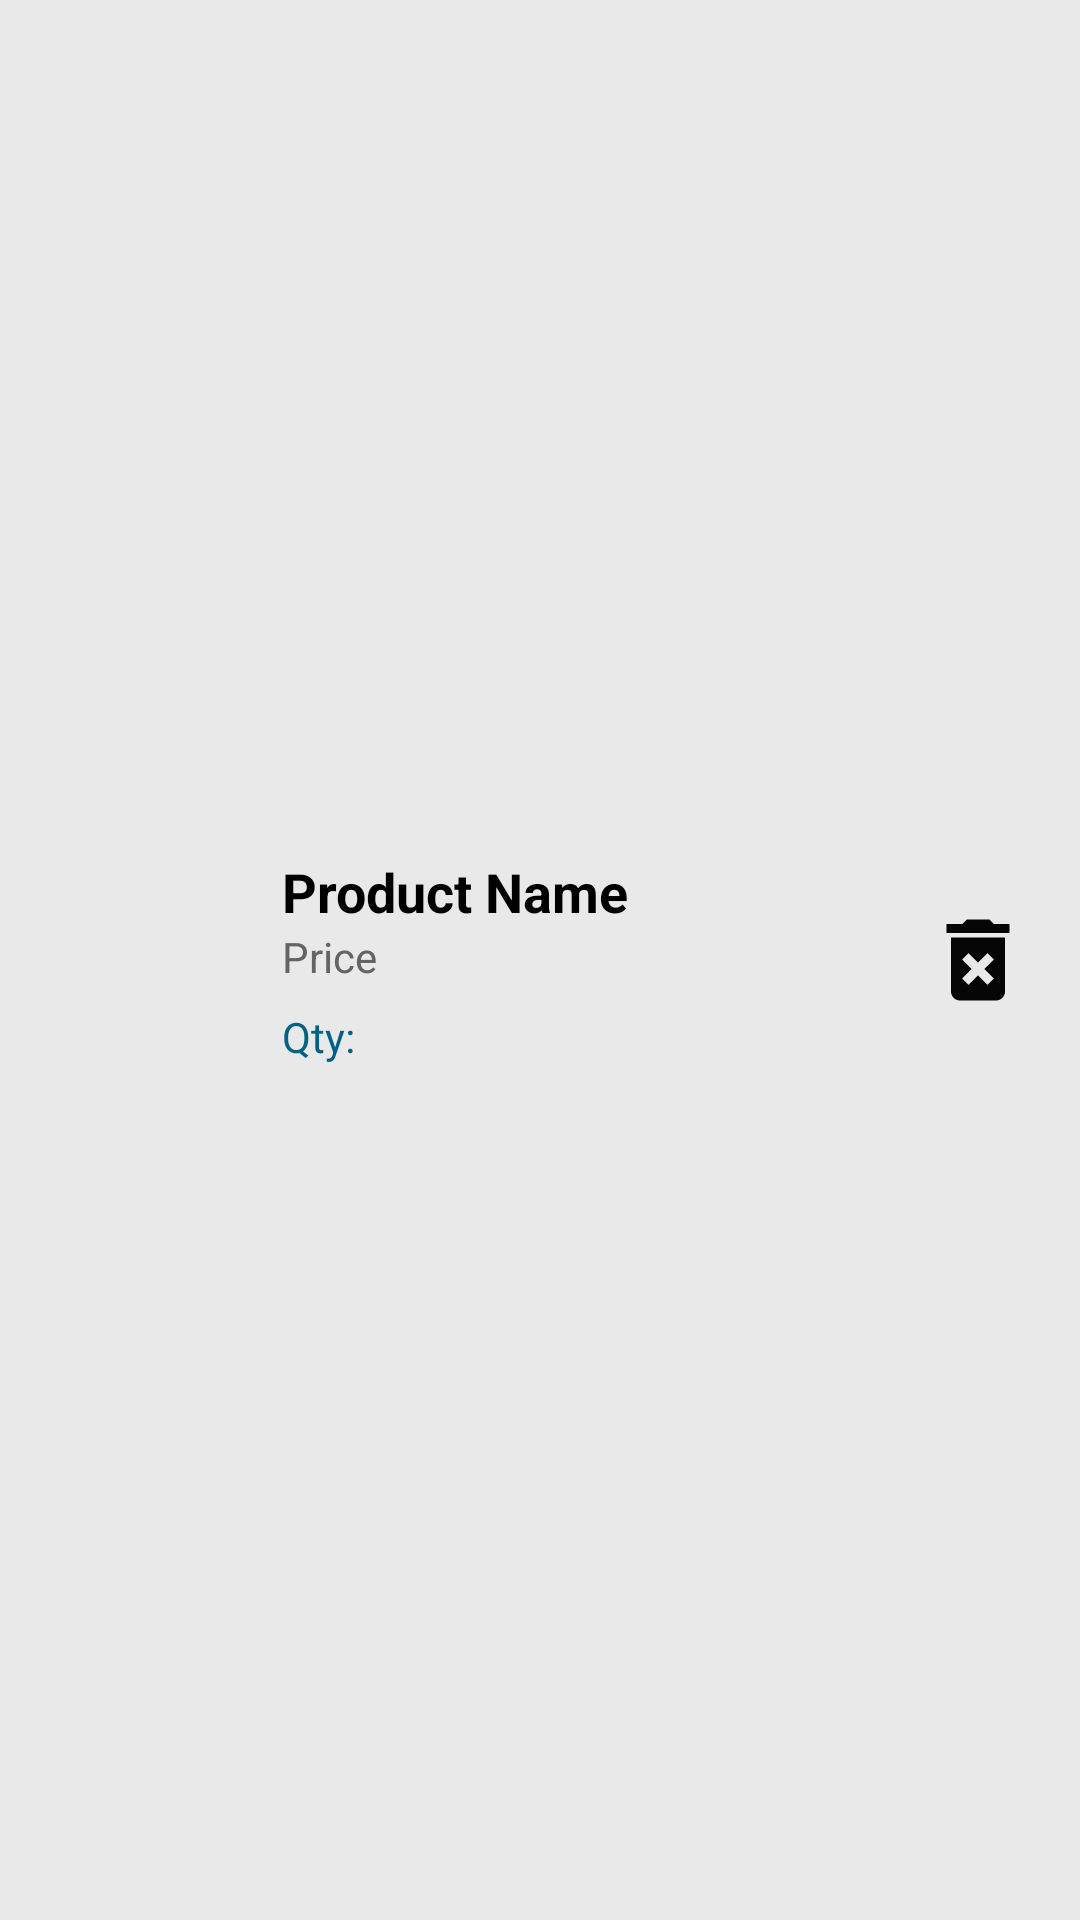

Locate icon controls on the screen. Image size 1080x1920, boxes as (x1, y1, x2, y2).
delete: (946, 919, 1010, 1001)
